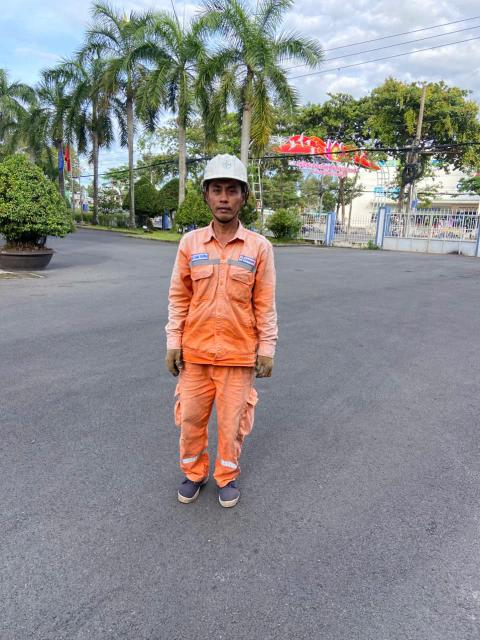gloves: (159, 342, 190, 384), (249, 354, 283, 379)
helmet: (190, 142, 262, 199)
shoes: (164, 478, 215, 510), (216, 476, 250, 513)
